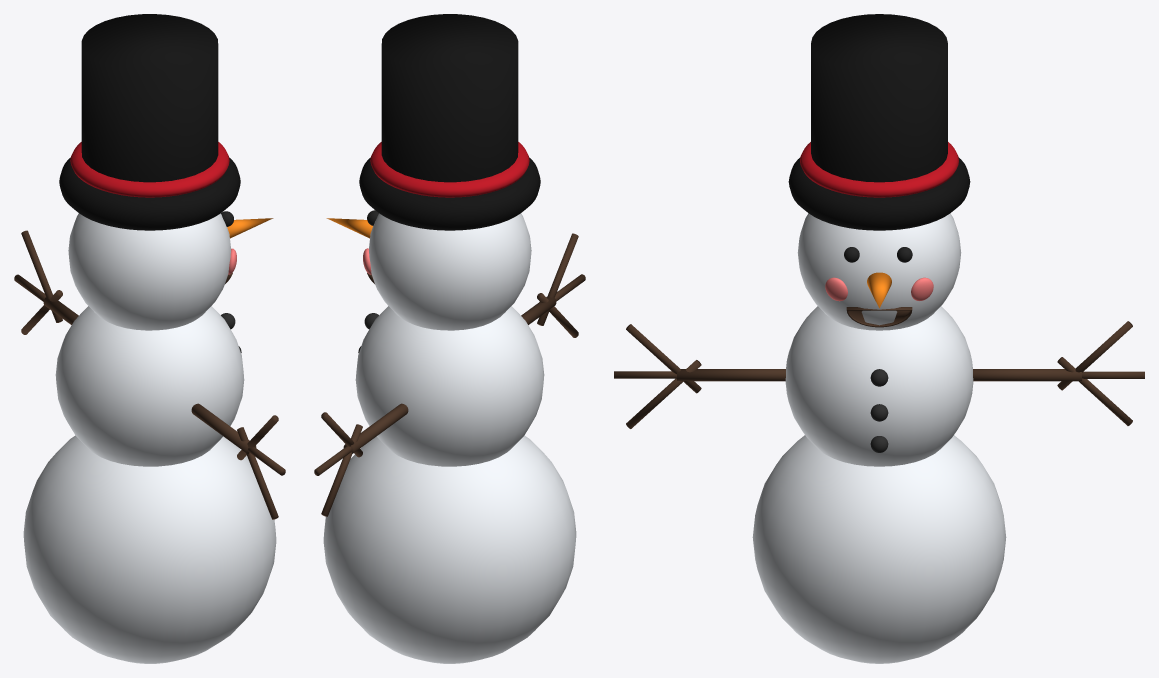
Rendered from snowman.glb.
3 views of the same model, side by side, from view 1: azimuth 30°, elevation 25°; view 2: azimuth 150°, elevation 25°; view 3: azimuth 270°, elevation 25° (orthographic).
Parts seen in each view (by area): view 1: Sphere.005; view 2: Sphere.005; view 3: Sphere.005.
Part boxes in pixels (x1,y1,x2,y2): Sphere.005: (14, 14, 285, 663); Sphere.005: (314, 14, 585, 663); Sphere.005: (614, 14, 1144, 663).
Bounding box in the file's own units: 2.22 × 5.53 × 4.36.
